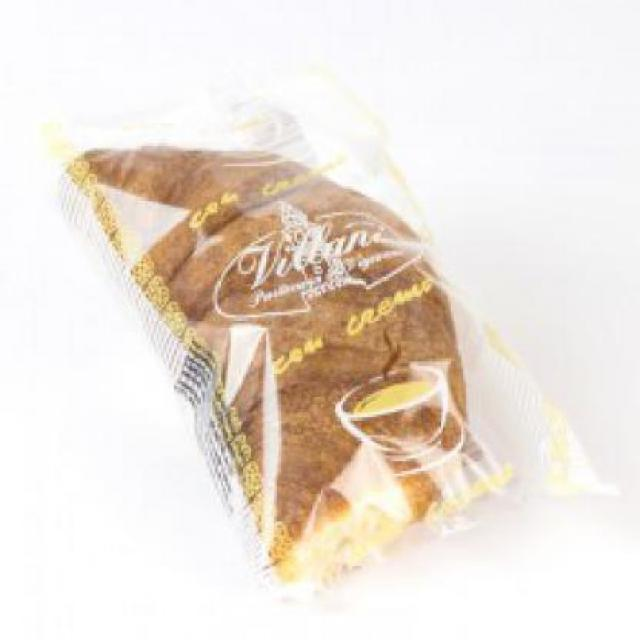Merendine: (39, 94, 616, 604)
